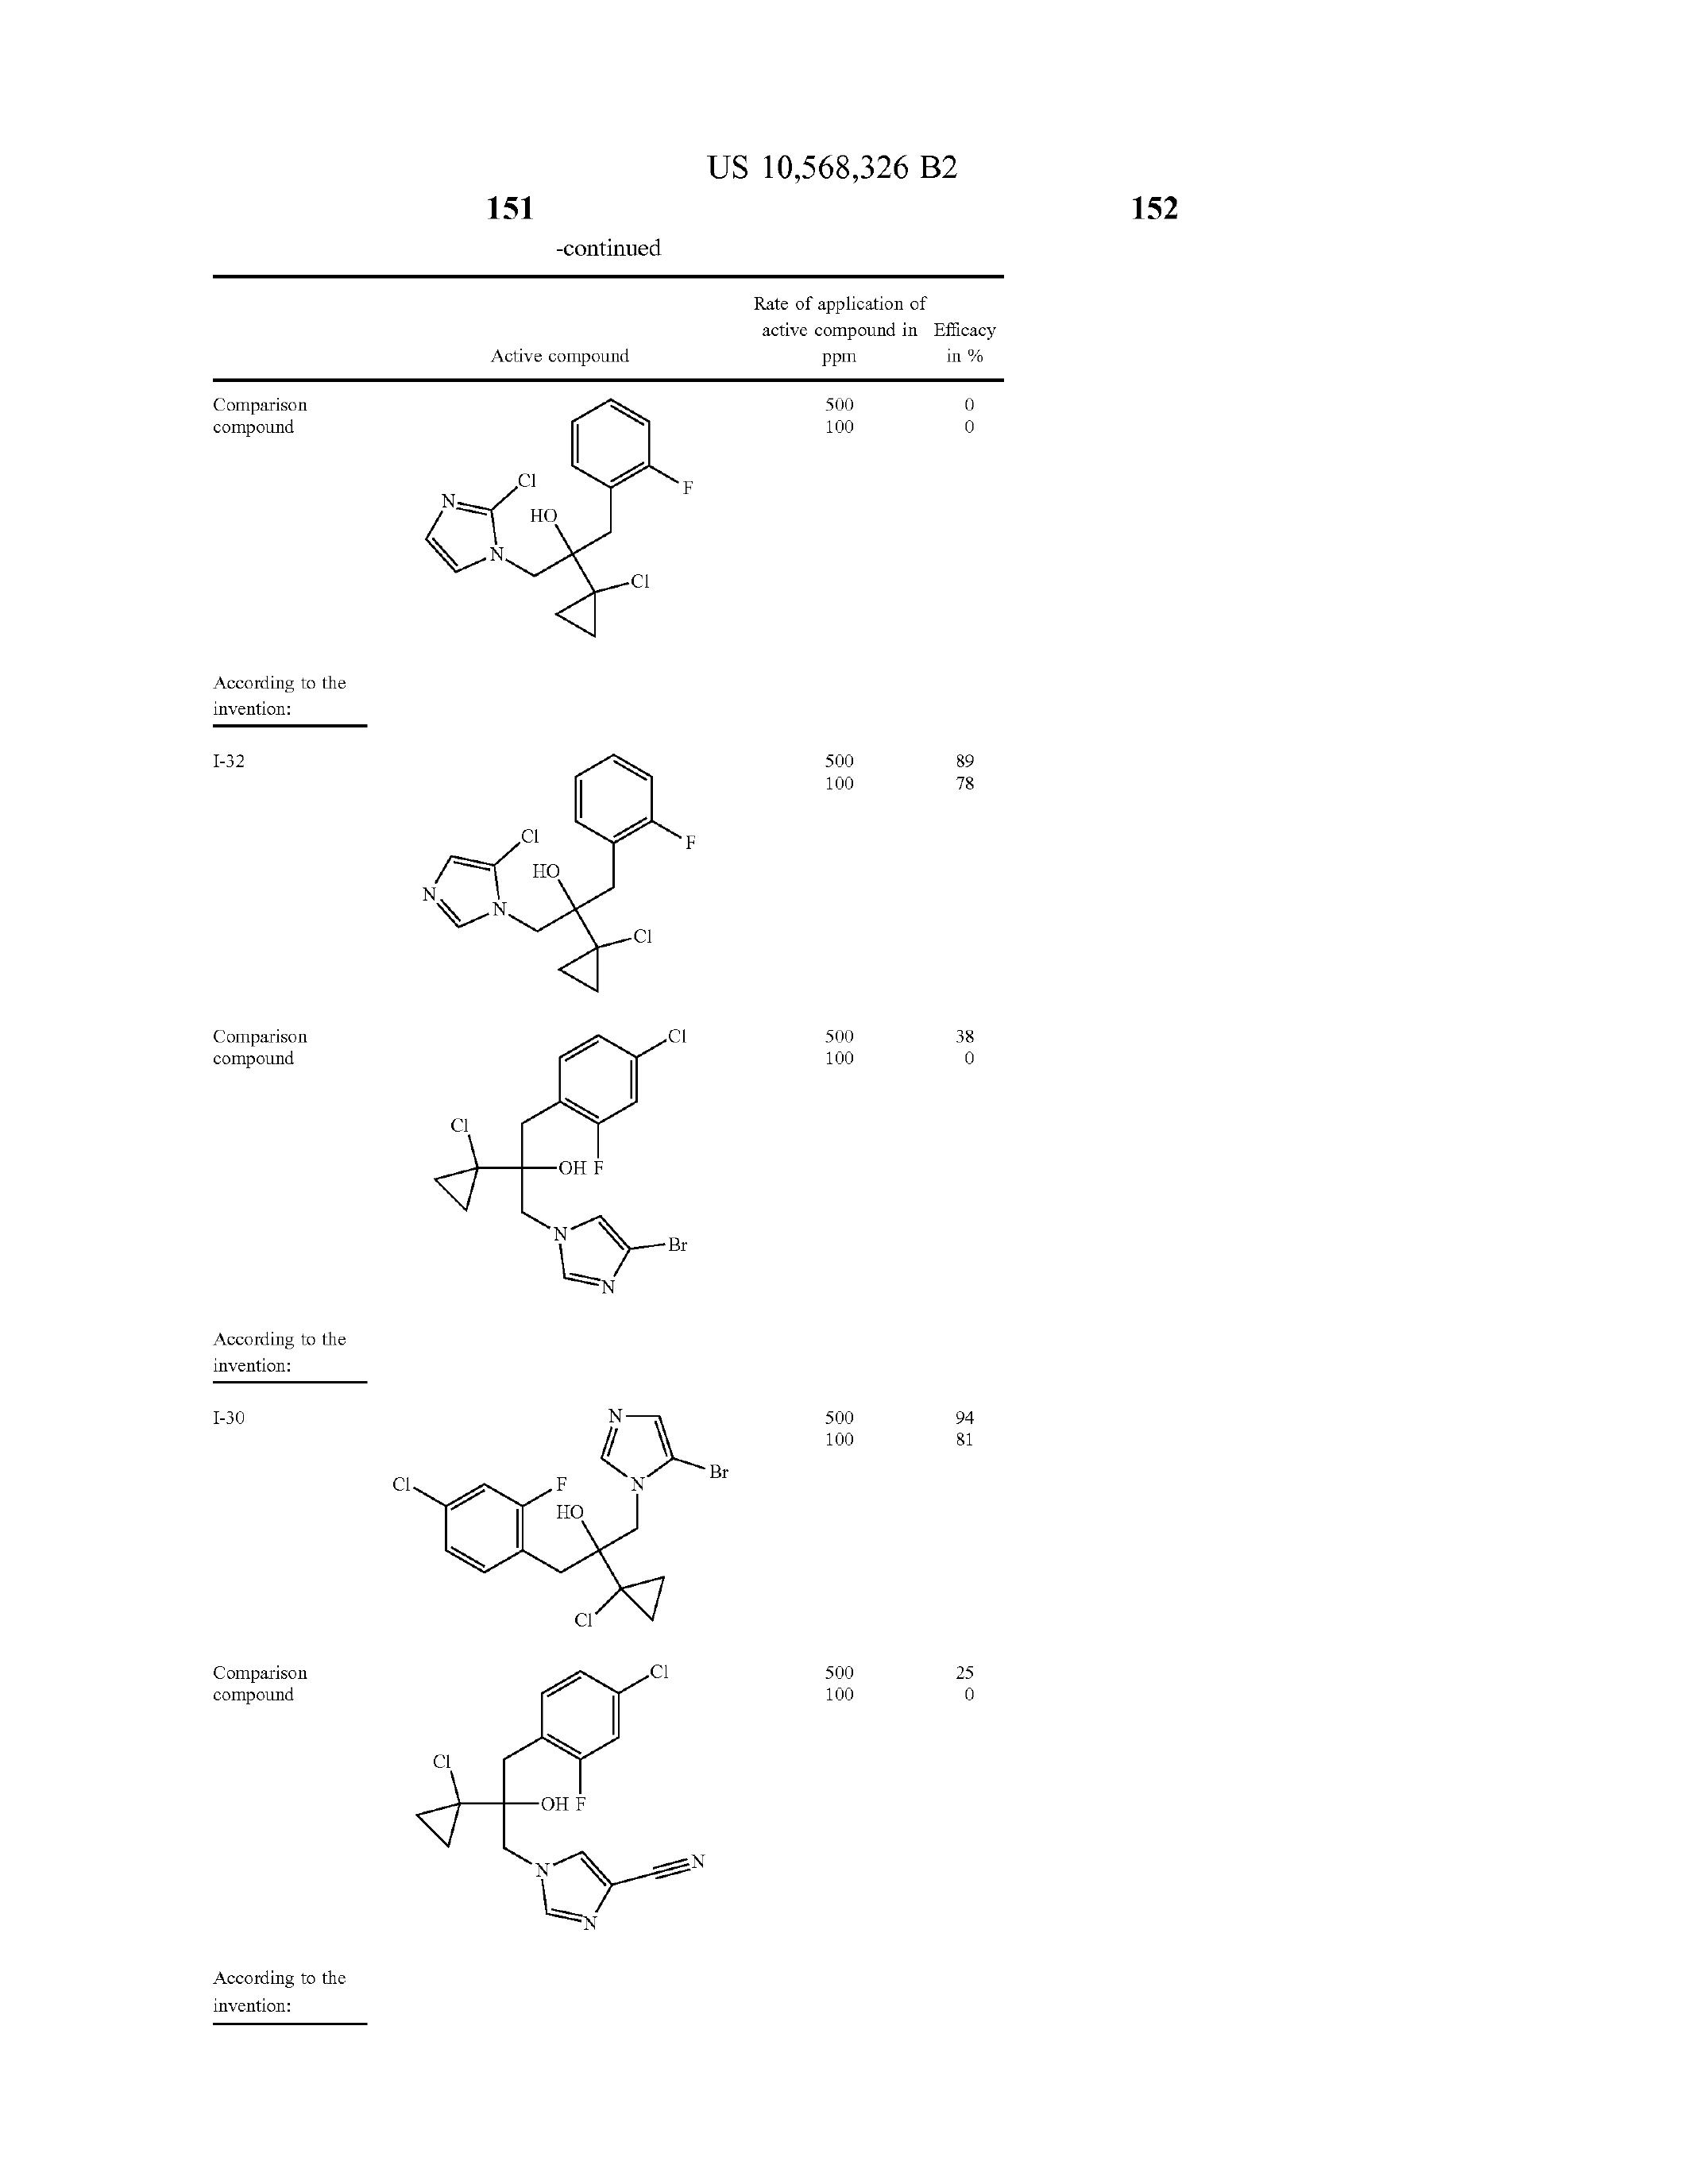relevant-structures: (372, 1650, 801, 1996), (381, 1030, 761, 1292), (374, 1377, 755, 1636), (399, 394, 739, 675), (383, 739, 725, 995)
